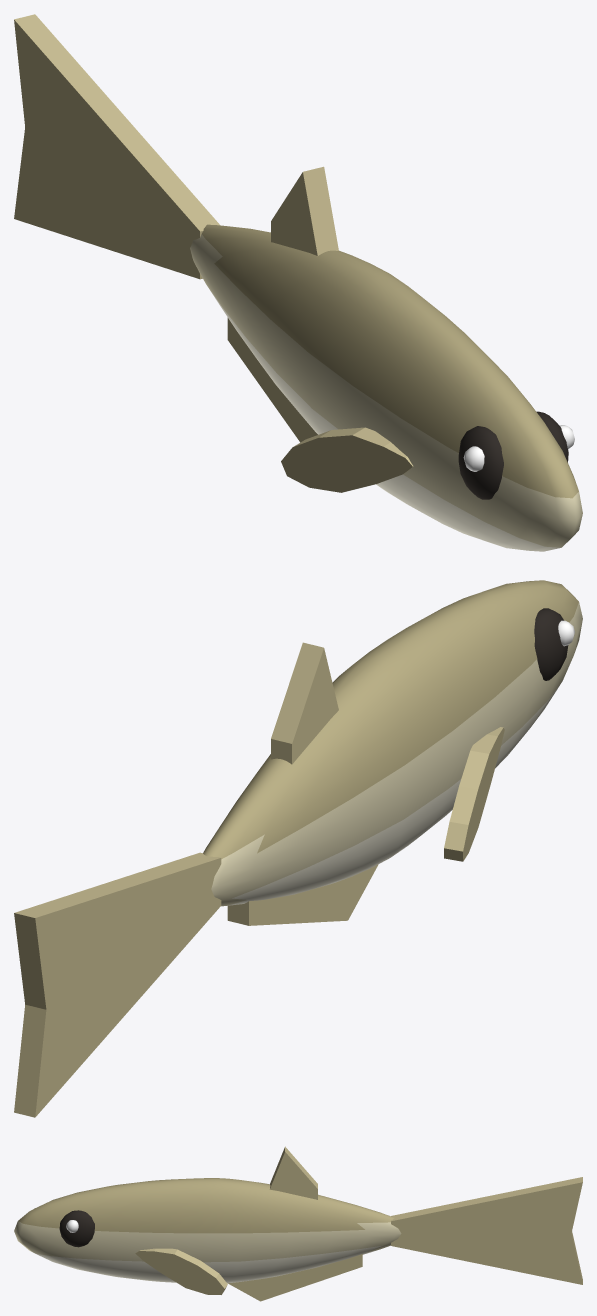
The model's file is fish-medaka.glb.
3 renders of one model, top to bottom at view 1: azimuth 30°, elevation 25°; view 2: azimuth 150°, elevation 25°; view 3: azimuth 270°, elevation 25°, orthographic. The views are drawn at different scales.
Visible parts, largest first — view 1: fish; view 2: fish; view 3: fish.
Part boxes in pixels (box(x1,y1,x2,y2)): fish: box(14, 14, 582, 551); fish: box(14, 580, 582, 1117); fish: box(14, 1146, 582, 1301).
Size of the model in its own units: 0.0515 by 0.0784 by 0.27.
